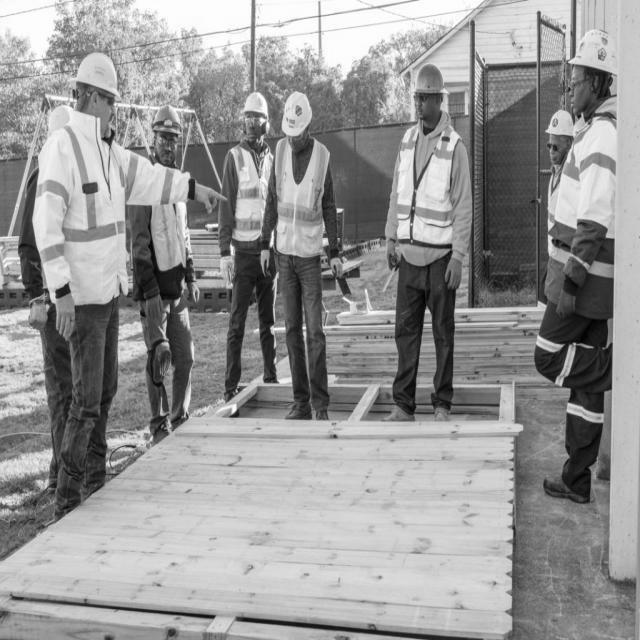10: (28, 37, 136, 521), (530, 16, 629, 522), (360, 56, 488, 438), (257, 81, 344, 437), (132, 96, 211, 458), (207, 80, 285, 414), (538, 96, 577, 286)
11: (34, 112, 196, 305), (541, 112, 617, 320), (397, 125, 462, 247), (274, 137, 332, 259), (226, 145, 275, 244), (150, 200, 190, 273)
2: (548, 30, 614, 135), (397, 61, 461, 151), (61, 55, 124, 142), (270, 75, 318, 167), (522, 102, 574, 181), (147, 100, 190, 176), (239, 82, 275, 164)
7: (35, 278, 93, 348), (435, 238, 481, 301), (204, 241, 251, 291), (326, 235, 366, 288), (378, 224, 415, 281), (176, 268, 209, 314), (260, 234, 289, 286), (141, 279, 166, 326)
helmet_white: (542, 475, 592, 505), (282, 401, 312, 423), (380, 405, 415, 422), (431, 405, 452, 421)
